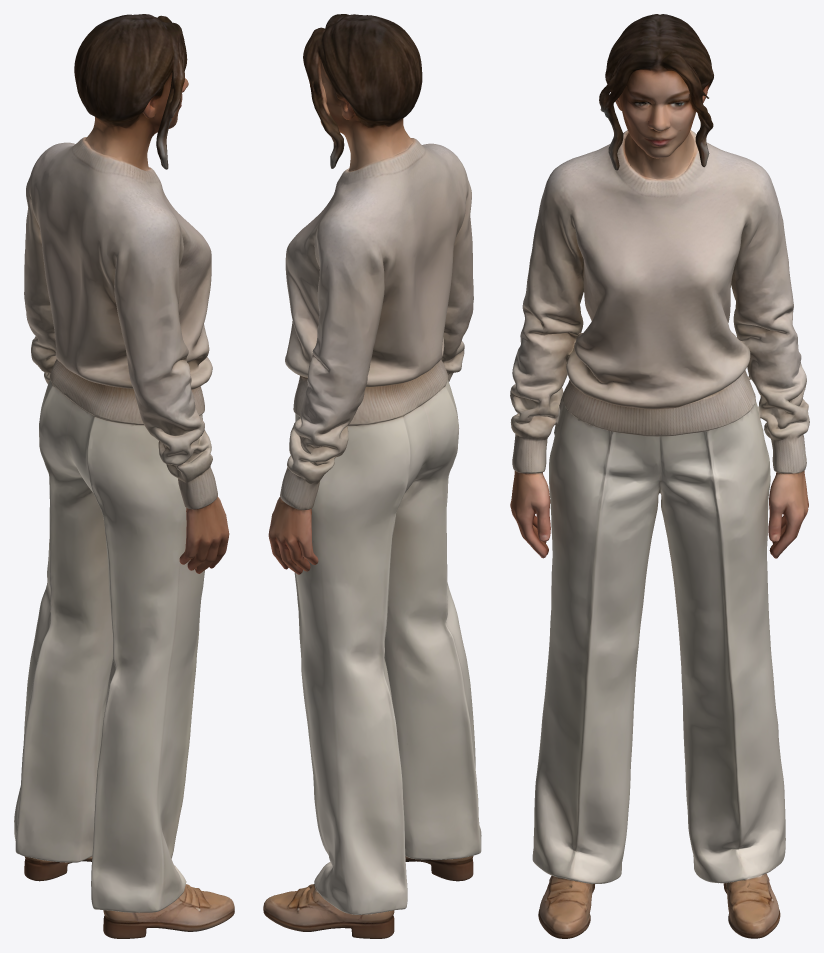
Rendered from style-soft.glb.
3 renders of one model, left to right at view 1: azimuth 30°, elevation 25°; view 2: azimuth 150°, elevation 25°; view 3: azimuth 270°, elevation 25°, orthographic. The views are drawn at different scales.
Parts seen in each view (by area): view 1: tripo_node_d2907915-adfe-404d-8b01-e92f1aa591c6; view 2: tripo_node_d2907915-adfe-404d-8b01-e92f1aa591c6; view 3: tripo_node_d2907915-adfe-404d-8b01-e92f1aa591c6.
Boxes of the visible parts, bbox=[...] form: tripo_node_d2907915-adfe-404d-8b01-e92f1aa591c6: bbox=[14, 14, 234, 938]; tripo_node_d2907915-adfe-404d-8b01-e92f1aa591c6: bbox=[263, 14, 481, 938]; tripo_node_d2907915-adfe-404d-8b01-e92f1aa591c6: bbox=[510, 14, 809, 938].
Size of the model in its own units: 0.1704 by 1 by 0.304.
Materials: 1 (1 with a texture image).
